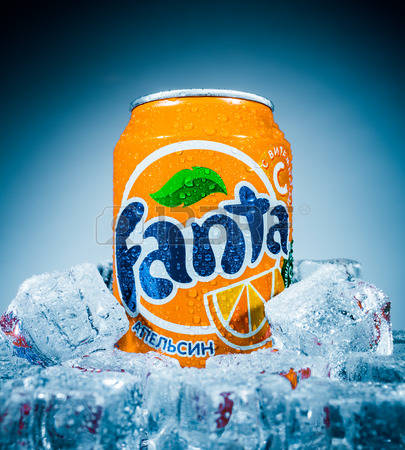fanta: (116, 102, 291, 355)
